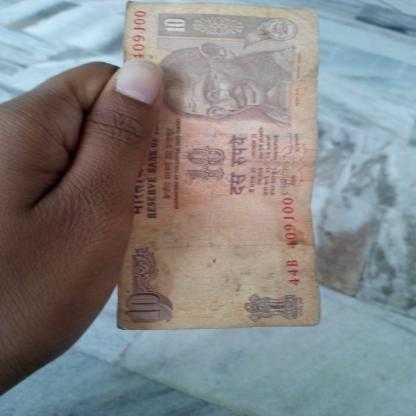Old10Front: (115, 1, 320, 329)
